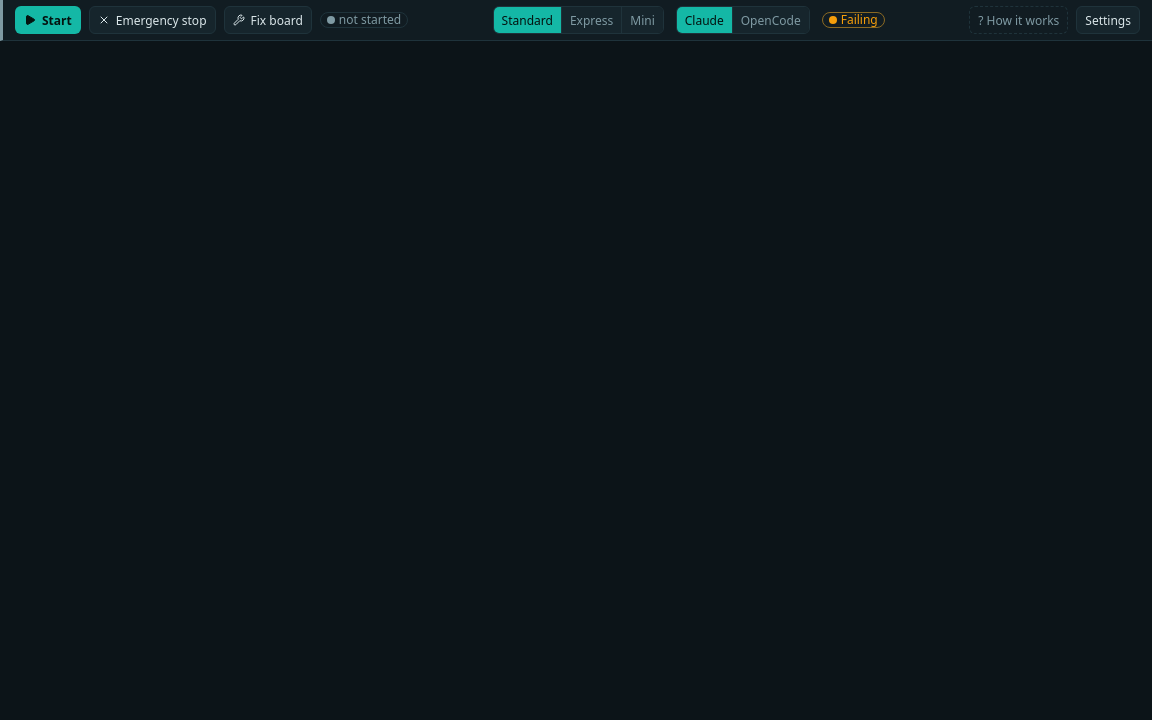
the agent health chip › carries the server’s own sentence in its balloon, not a reworded one
Click the button with test id "ap-agent-state": (853, 20) [822,12,885,28]
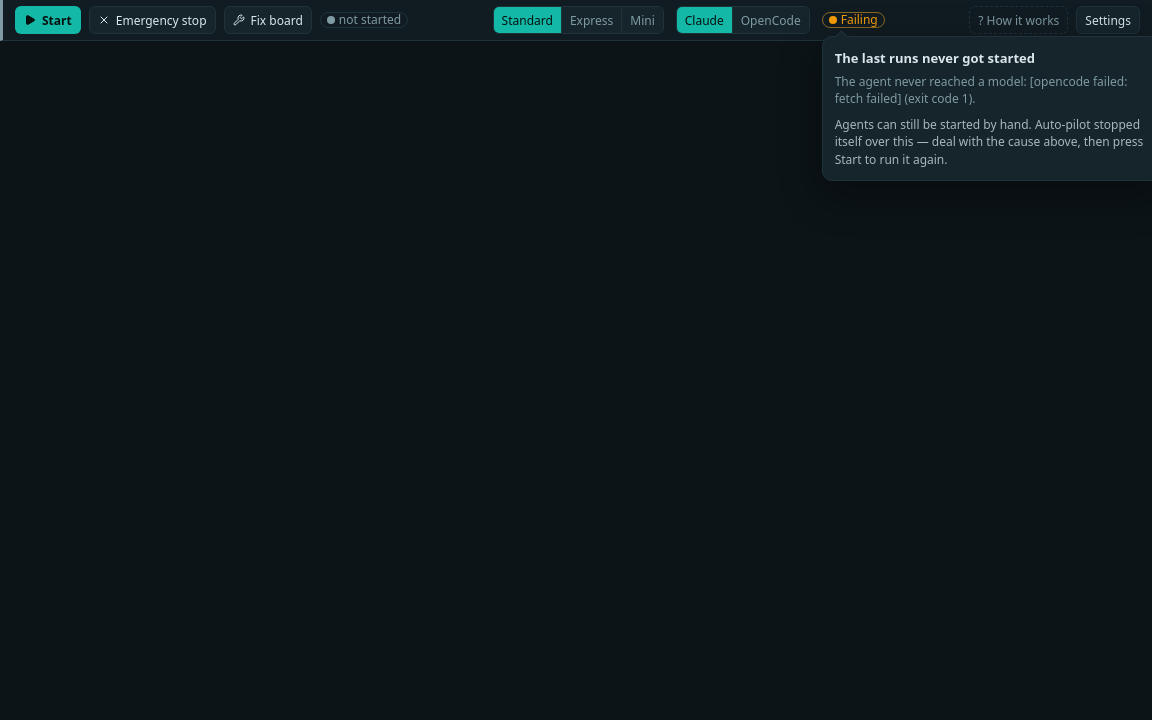
Expected: the text "opencode failed: fetch failed" is shown, [835,73,1127,107]
